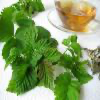Raspberry leaf: (0, 18, 14, 42), (14, 26, 28, 50), (0, 7, 13, 21), (16, 18, 34, 27)
